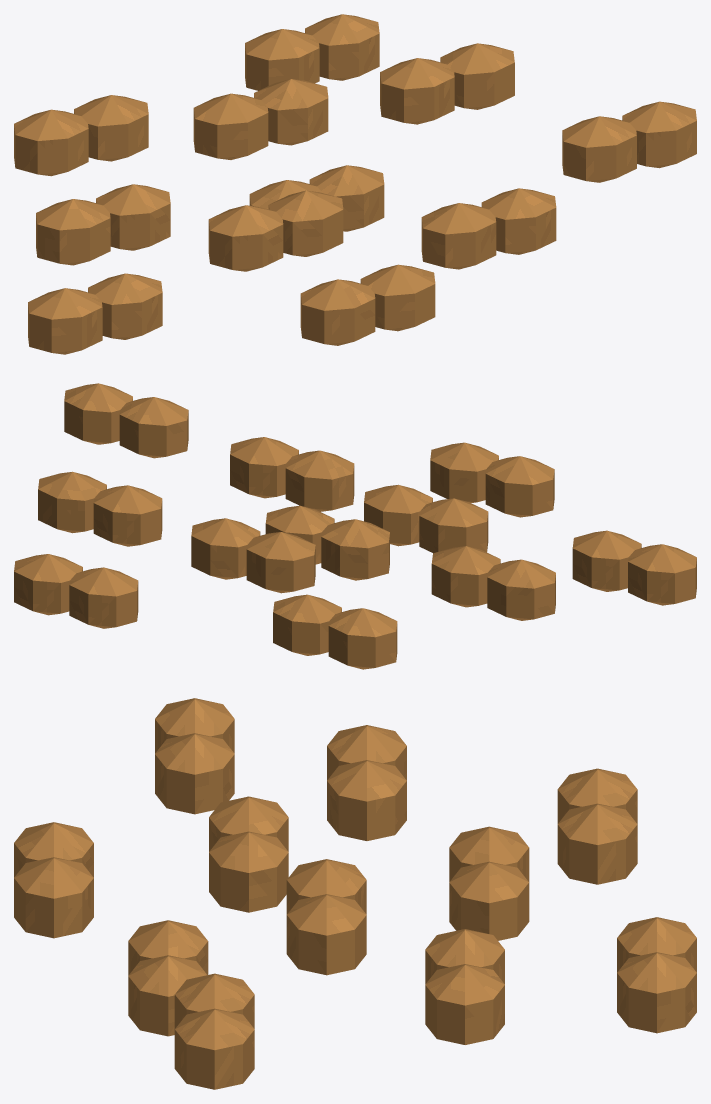
File: peanut.glb
The picture shows the model from 3 angles, top to bottom: view 1: azimuth 30°, elevation 25°; view 2: azimuth 150°, elevation 25°; view 3: azimuth 270°, elevation 25°; orthographic projection. The views are drawn at different scales.
Visible parts, largest first — view 1: block_paired lobes of shelled peanut (×22); view 2: block_paired lobes of shelled peanut (×22); view 3: block_paired lobes of shelled peanut (×22).
Part boxes in pixels (left/top/right/bottom): block_paired lobes of shelled peanut (×22): left=14, top=14, right=696, bottom=354; block_paired lobes of shelled peanut (×22): left=14, top=383, right=696, bottom=669; block_paired lobes of shelled peanut (×22): left=14, top=698, right=696, bottom=1089.
Size of the model in its own units: 0.1203 by 0.017 by 0.0887.
1 material, 1 textured.
